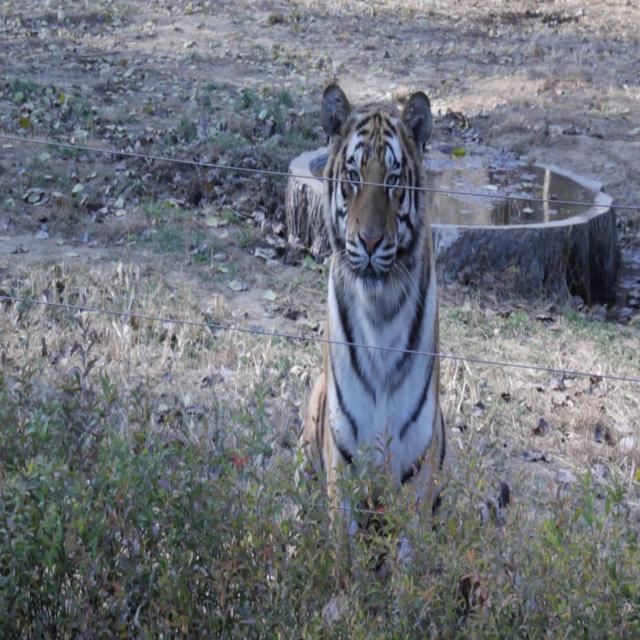Tiger: (300, 76, 472, 601)
